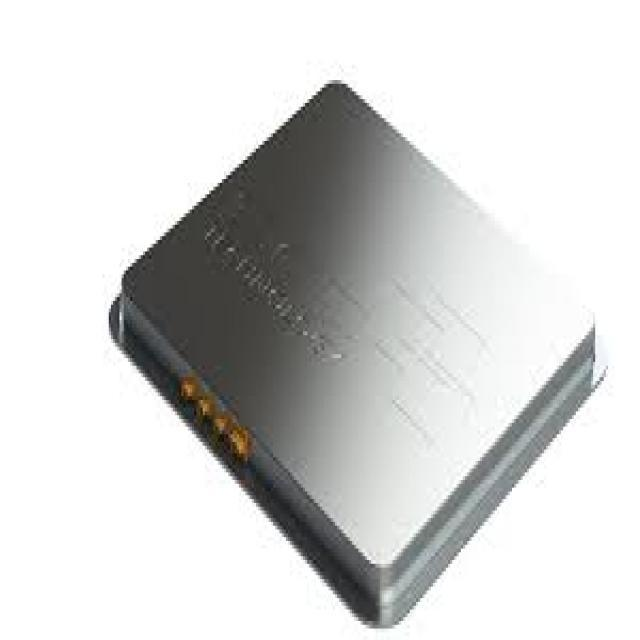battery: (110, 78, 607, 629)
